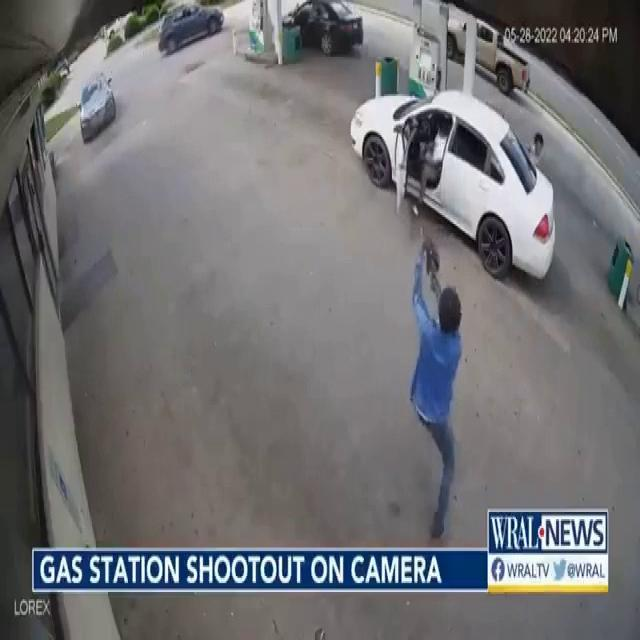penembakan: (402, 229, 463, 539)
